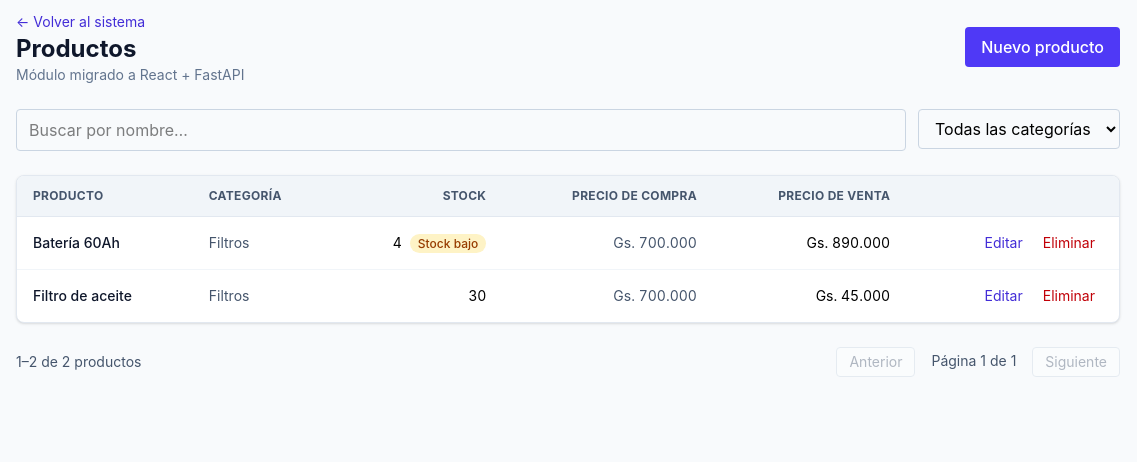
it: PaginaProductos › explica por qué no se puede eliminar un producto con ventas
What coordinates should you click on to do the following:
click the button with aria-label "Eliminar Filtro de aceite"
I would click on:
 (1069, 296)
Its box is [1035,282,1103,310].
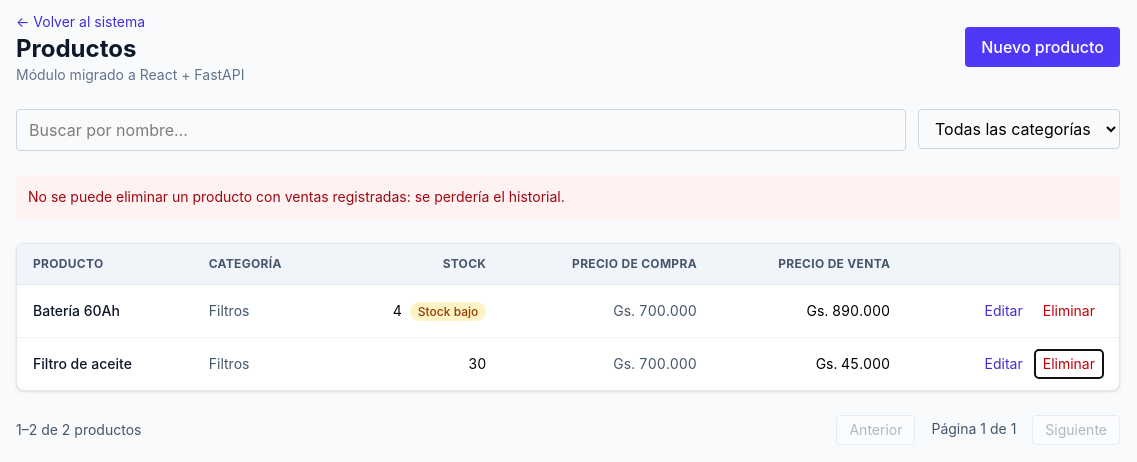
Now the message shows "No se puede eliminar un producto con ventas registradas", box [28,188,565,205]
